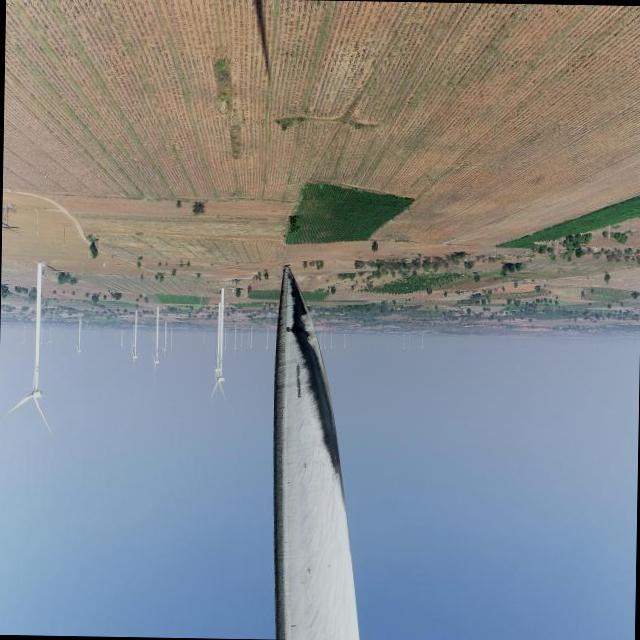Dirt: (281, 266, 362, 640)
Oil LEAKAGE: (284, 264, 346, 478)
Pin Hole: (296, 460, 314, 476), (301, 563, 316, 578), (284, 322, 298, 338)
